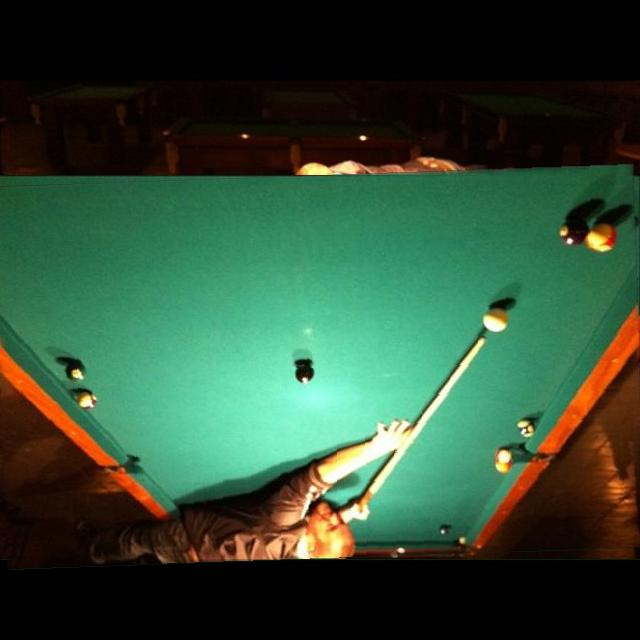Ball: (17, 469, 49, 502), (46, 477, 78, 507), (133, 398, 156, 420), (326, 352, 346, 375), (556, 362, 578, 382), (545, 333, 565, 352), (108, 288, 125, 310), (129, 263, 149, 281), (134, 255, 149, 264), (197, 196, 206, 206)
Billiard table: (0, 170, 640, 565)
